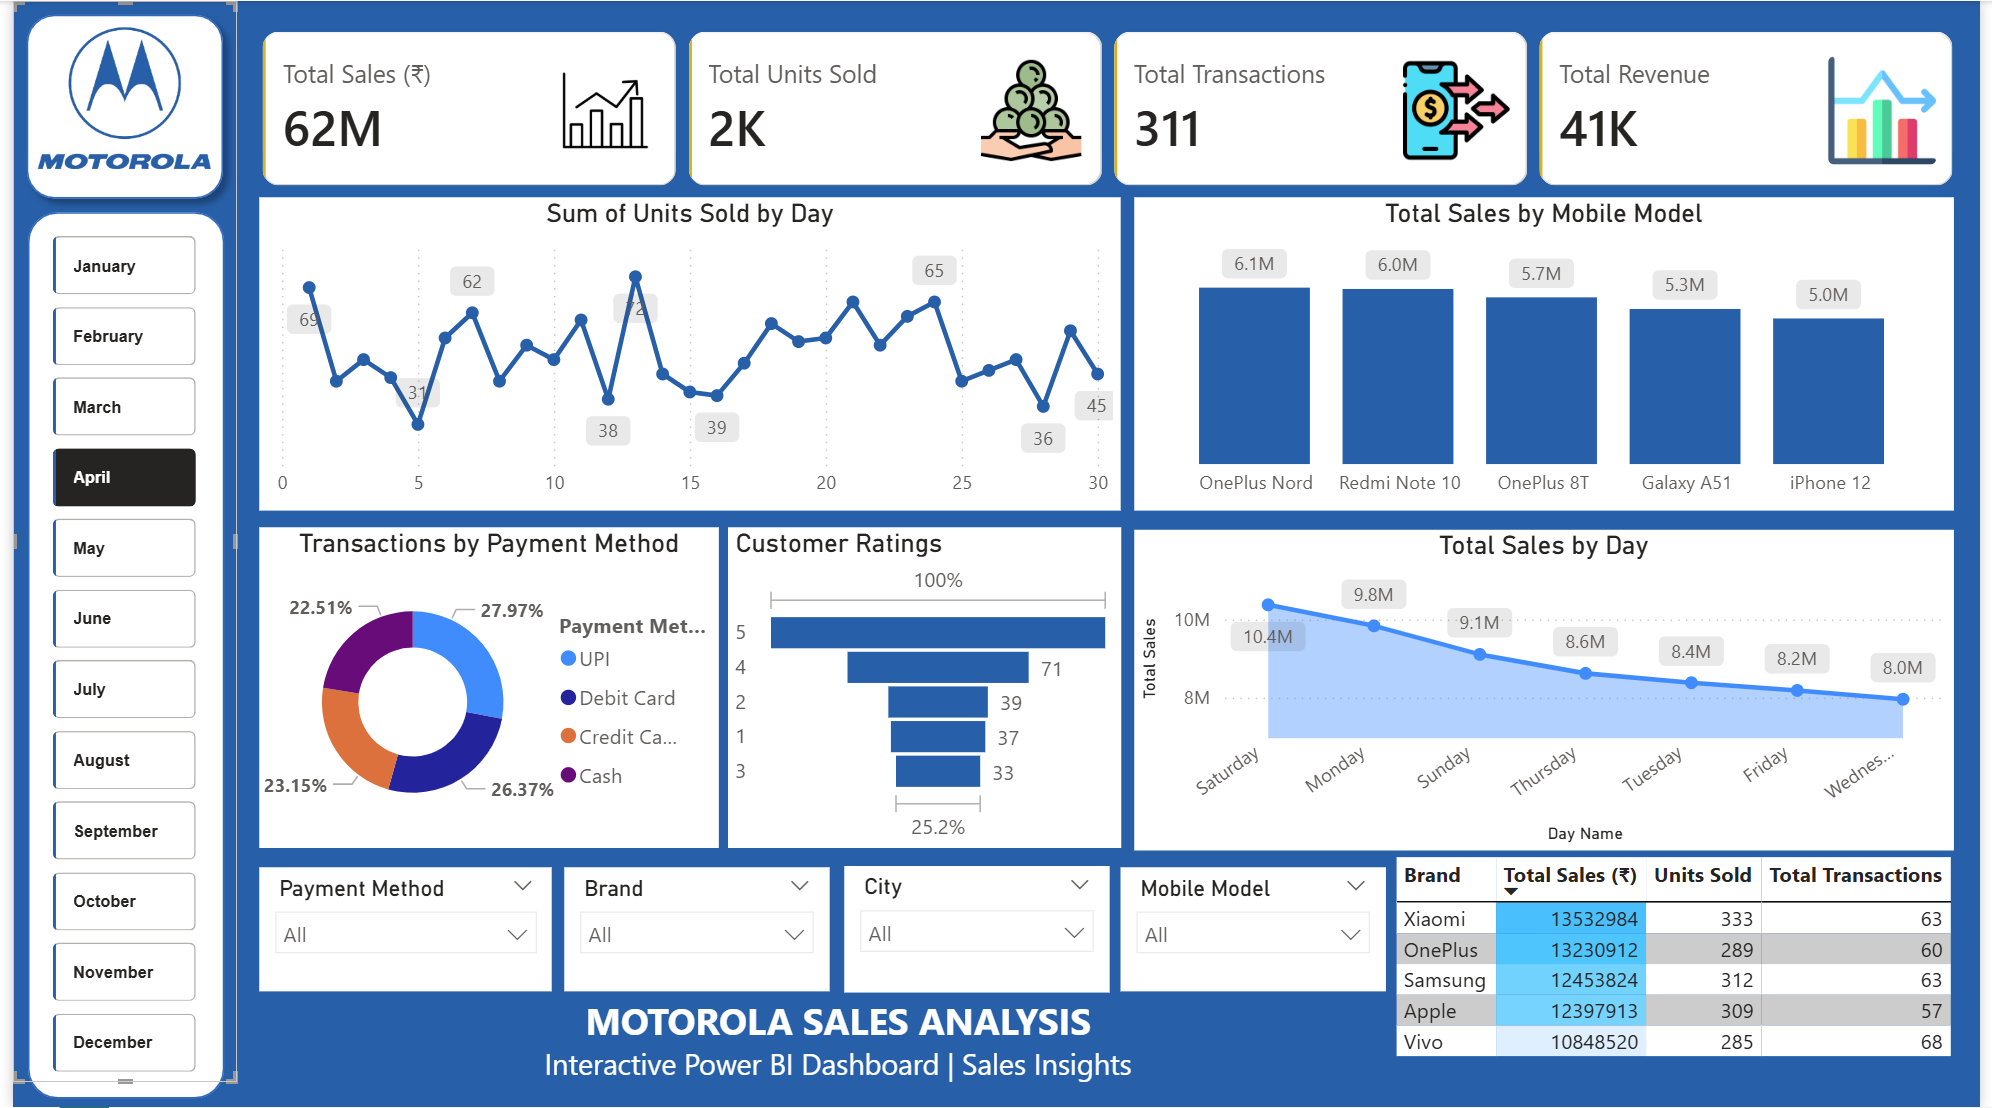

This screenshot's page, from the dashboard's own definition file:
{"tool":"powerbi","page":{"name":"Page 1","canvas":[1280,720],"ordinal":0},"visuals":[{"type":"shape","box":[0,0,145.7,137.5],"z":0,"group":"g1"},{"type":"shape","box":[9.8,137.5,127.8,576.9],"z":0},{"type":"group","id":"g1","title":"Group 1","box":[0,0,145.7,703.9],"z":1000},{"type":"image","box":[7.3,7.3,130.2,112.3],"z":1000,"group":"g1"},{"type":"cardVisual","fields":{"Data":["Sales_Data_Mobil.Total Sales","Sales_Data_Mobil.Total Quantity","Sales_Data_Mobil.Transactions","Sales_Data_Mobil.Average"]},"box":[145.7,3.3,1134.4,134.3],"z":2000},{"type":"advancedSlicerVisual","fields":{"Values":["Sales_Data_Mobil.Date.Variation.Date Hierarchy.Month"]},"box":[21.2,148.1,103.3,555.8],"z":2000,"group":"g1"},{"type":"lineChart","fields":{"Y":["Sum(Sales_Data_Mobil.Units Sold)"],"Category":["Sales_Data_Mobil.Date.Variation.Date Hierarchy.Month","Sales_Data_Mobil.Date.Variation.Date Hierarchy.Day"]},"box":[160.5,127.9,561,203.9],"z":3000},{"type":"clusteredColumnChart","fields":{"Category":["Sales_Data_Mobil.Mobile Model"],"Y":["Sales_Data_Mobil.Total Sales"]},"box":[729.9,127.9,533.2,203.9],"z":4000},{"type":"donutChart","fields":{"Category":["Sales_Data_Mobil.Payment Method"],"Y":["Sales_Data_Mobil.Transactions"]},"box":[160.5,342.6,299.2,208.7],"z":5000},{"type":"funnel","title":"Customer Ratings","fields":{"Category":["Sales_Data_Mobil.Customer Ratings"],"Y":["CountNonNull(Sales_Data_Mobil.Customer Ratings)"]},"box":[465.7,342.6,255.8,208.7],"z":6000},{"type":"areaChart","title":"Total Sales by Day ","fields":{"Category":["Sales_Data_Mobil.Day Name"],"Y":["Sales_Data_Mobil.Total Sales"]},"box":[729.9,343.8,533.2,208.7],"z":7000},{"type":"tableEx","fields":{"Values":["Sales_Data_Mobil.Brand","Sales_Data_Mobil.Total Sales","Sales_Data_Mobil.Total Quantity","Sales_Data_Mobil.Transactions"]},"box":[894,552.5,377.6,168],"z":8000},{"type":"slicer","fields":{"Values":["Sales_Data_Mobil.Mobile Model"]},"box":[720.9,564.2,172.5,80.8],"z":9000,"group":"g2"},{"type":"textbox","box":[234,624.9,605.6,95.3],"z":9000},{"type":"group","id":"g2","title":"Group 2","box":[160.5,563,733,82],"z":10000},{"type":"slicer","fields":{"Values":["Sales_Data_Mobil.City"]},"box":[541.2,563,172.5,82],"z":10000,"group":"g2"},{"type":"slicer","fields":{"Values":["Sales_Data_Mobil.Payment Method"]},"box":[160.5,563.6,190.6,80.8],"z":11000,"group":"g2"},{"type":"slicer","fields":{"Values":["Sales_Data_Mobil.Brand"]},"box":[359,564.2,172.5,80.8],"z":12000,"group":"g2"}]}

Visuals, with their boxes in screenshot pixels (x1, y1, x2, y2), scaled from the page's 1280x720 canvas onto the 1992x1108 screenshot:
shape: {"x1": 0, "y1": 0, "x2": 227, "y2": 212}
shape: {"x1": 15, "y1": 212, "x2": 214, "y2": 1099}
"Group 1" group: {"x1": 0, "y1": 0, "x2": 227, "y2": 1083}
image: {"x1": 11, "y1": 11, "x2": 214, "y2": 184}
cardVisual - Sales_Data_Mobil.Total Sales x Sales_Data_Mobil.Total Quantity: {"x1": 227, "y1": 5, "x2": 1991, "y2": 212}
advancedSlicerVisual - Sales_Data_Mobil.Date.Variation.Date Hierarchy.Month: {"x1": 33, "y1": 228, "x2": 194, "y2": 1083}
lineChart - Sum(Sales_Data_Mobil.Units Sold) x Sales_Data_Mobil.Date.Variation.Date Hierarchy.Month: {"x1": 250, "y1": 197, "x2": 1123, "y2": 511}
clusteredColumnChart - Sales_Data_Mobil.Mobile Model x Sales_Data_Mobil.Total Sales: {"x1": 1136, "y1": 197, "x2": 1966, "y2": 511}
donutChart - Sales_Data_Mobil.Payment Method x Sales_Data_Mobil.Transactions: {"x1": 250, "y1": 527, "x2": 715, "y2": 848}
"Customer Ratings" funnel: {"x1": 725, "y1": 527, "x2": 1123, "y2": 848}
"Total Sales by Day " areaChart: {"x1": 1136, "y1": 529, "x2": 1966, "y2": 850}
tableEx - Sales_Data_Mobil.Brand x Sales_Data_Mobil.Total Sales: {"x1": 1391, "y1": 850, "x2": 1979, "y2": 1107}
slicer - Sales_Data_Mobil.Mobile Model: {"x1": 1122, "y1": 868, "x2": 1390, "y2": 993}
textbox: {"x1": 364, "y1": 962, "x2": 1307, "y2": 1107}
"Group 2" group: {"x1": 250, "y1": 866, "x2": 1391, "y2": 993}
slicer - Sales_Data_Mobil.City: {"x1": 842, "y1": 866, "x2": 1111, "y2": 993}
slicer - Sales_Data_Mobil.Payment Method: {"x1": 250, "y1": 867, "x2": 546, "y2": 992}
slicer - Sales_Data_Mobil.Brand: {"x1": 559, "y1": 868, "x2": 827, "y2": 993}
